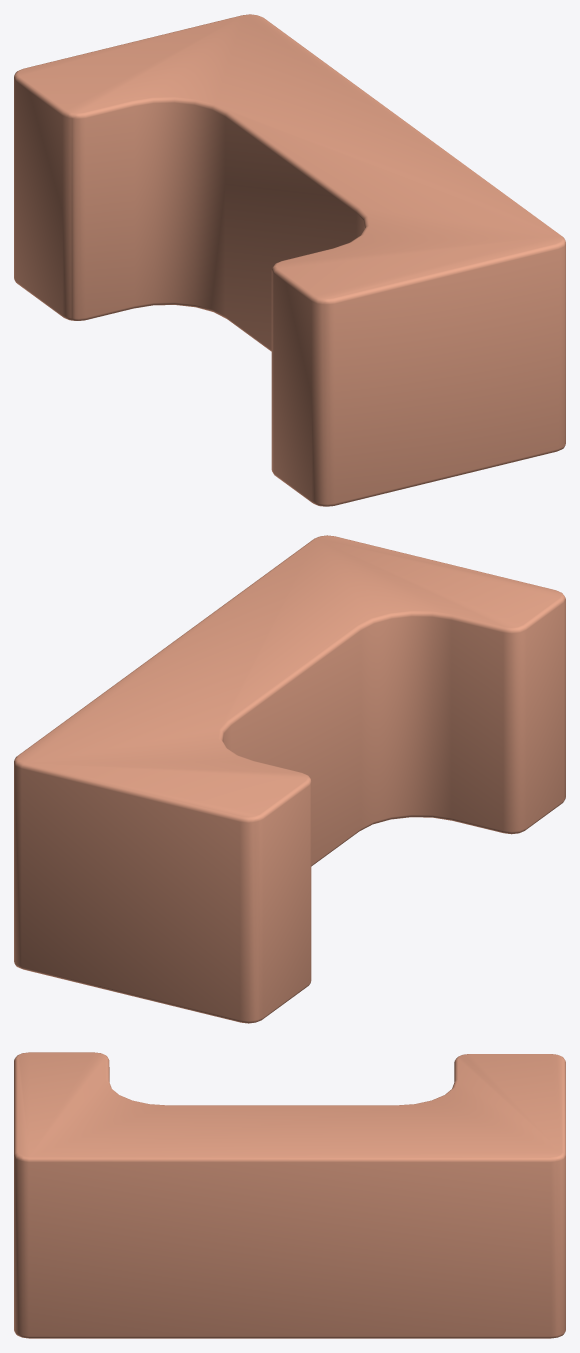
File: island_lv9_1.fbx
The picture shows the model from 3 angles, top to bottom: view 1: azimuth 30°, elevation 25°; view 2: azimuth 150°, elevation 25°; view 3: azimuth 270°, elevation 25°; orthographic projection. The views are drawn at different scales.
Parts seen in each view (by area): view 1: island_lv9_1; view 2: island_lv9_1; view 3: island_lv9_1.
Part boxes in pixels (x1,y1,x2,y2): island_lv9_1: (14, 14, 565, 506); island_lv9_1: (14, 535, 565, 1023); island_lv9_1: (14, 1052, 565, 1338).
Size of the model in its own units: 638 by 500 by 1382.
